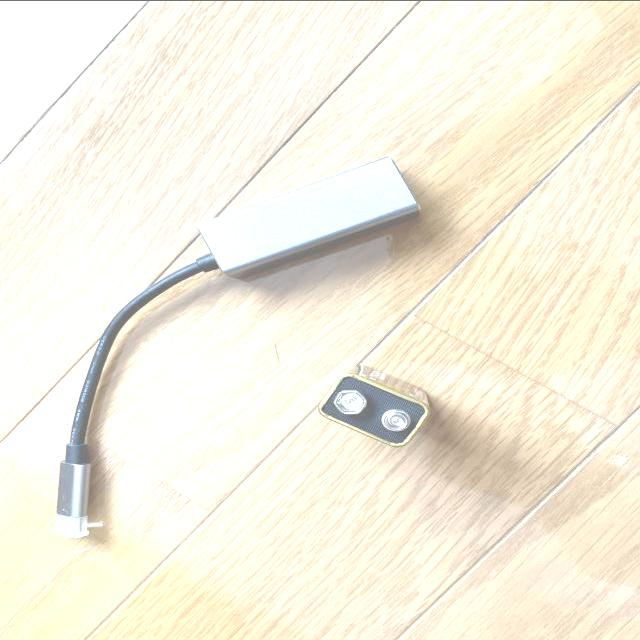9V: (317, 363, 430, 444)
